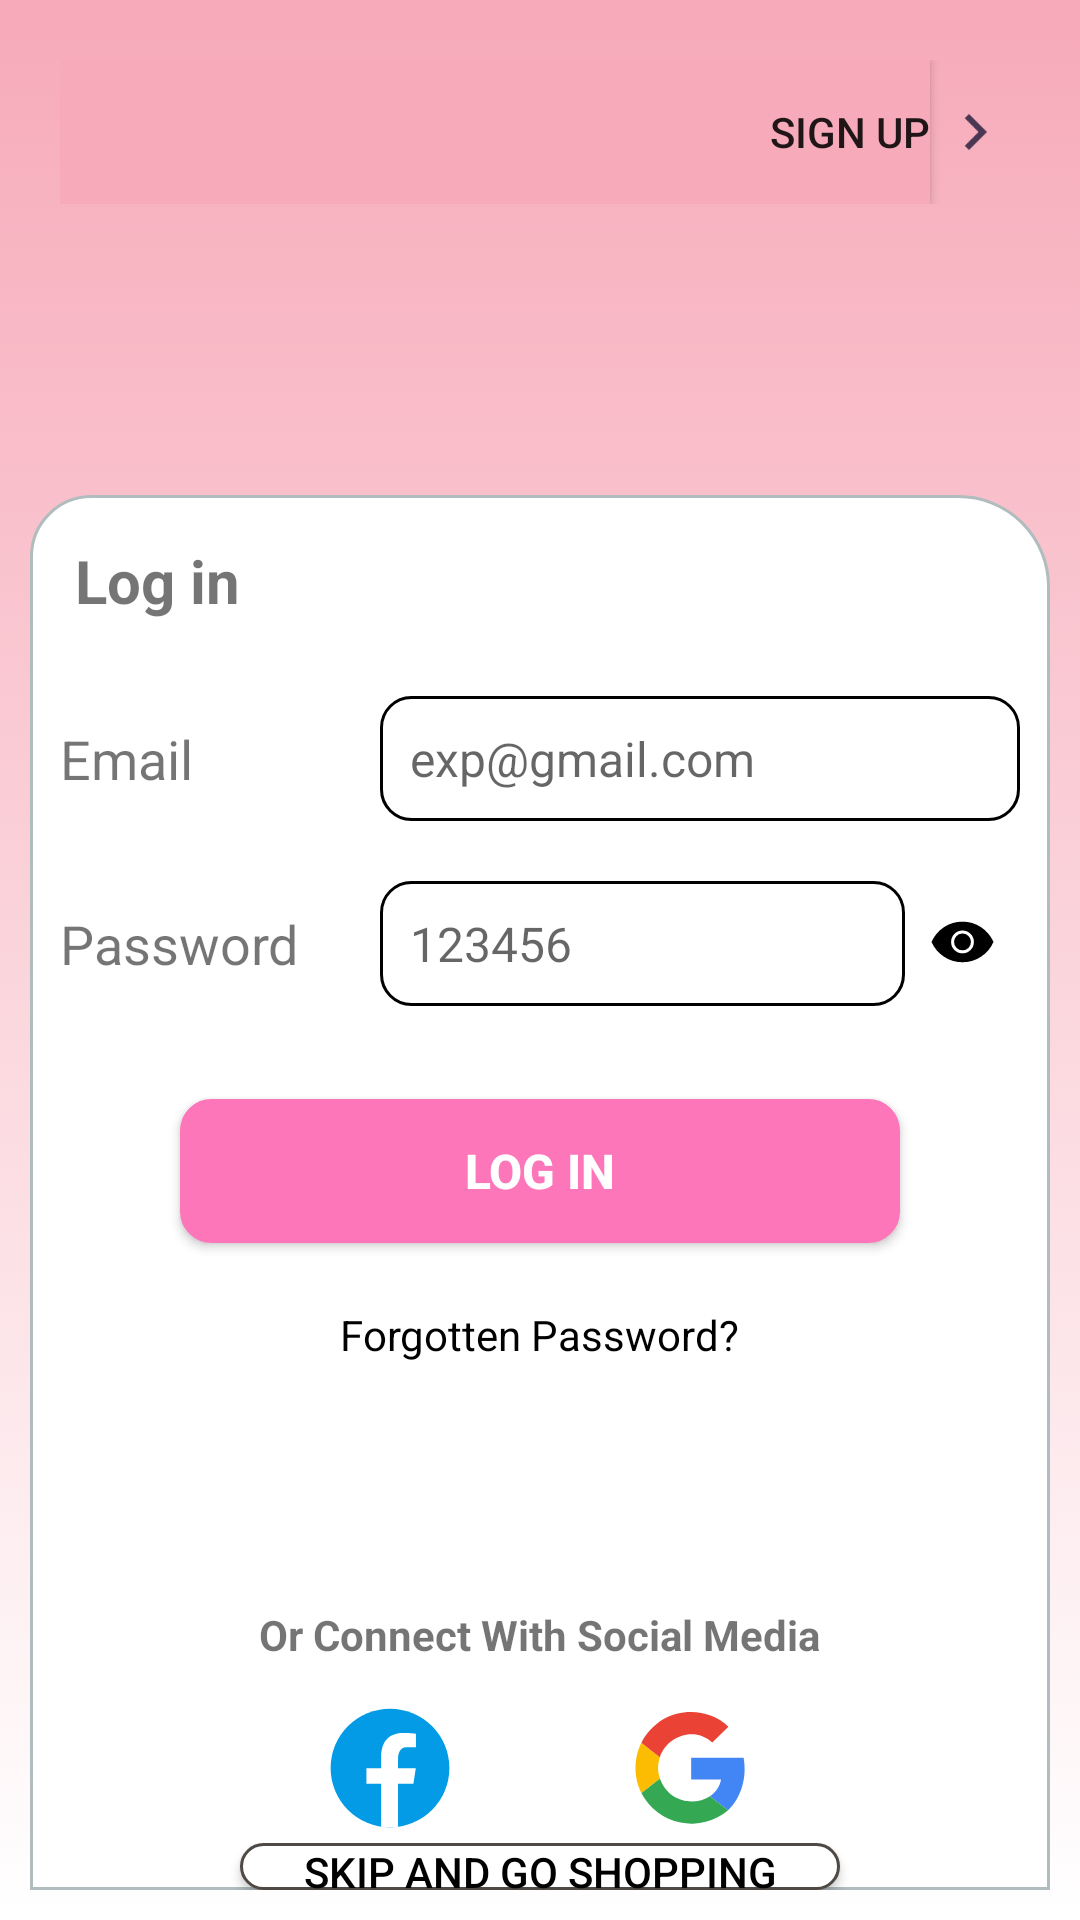

Point at icon controls on the screen. Image size 1080px×1920px, points as (x=x, y=y).
chevron right: (x=976, y=132)
visibility on: (x=962, y=942)
